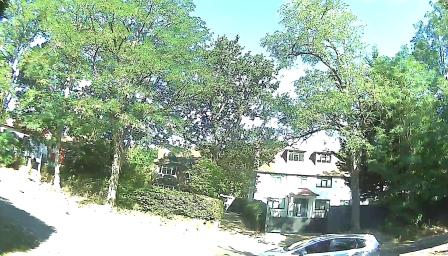Cars: (184, 196, 413, 256)
